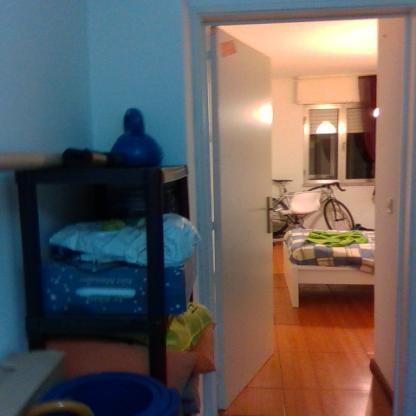open: (186, 8, 416, 415)
